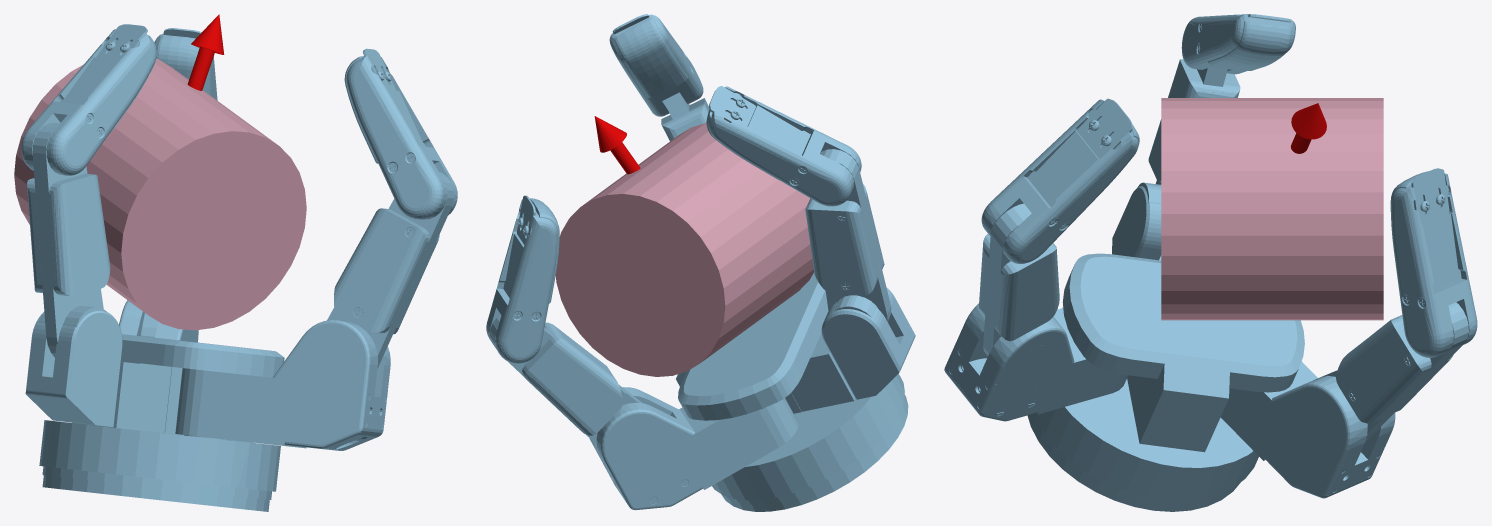
The picture shows the model from 3 angles, left to right: view 1: azimuth 30°, elevation 25°; view 2: azimuth 150°, elevation 25°; view 3: azimuth 270°, elevation 25°; orthographic projection. The views are drawn at different scales.
Visible parts, largest first — view 1: world, cylinder_medium.stl; view 2: world, cylinder_medium.stl; view 3: world, cylinder_medium.stl.
Boxes of the visible parts, x1,y1,x2,y2 form: world: [21, 14, 457, 511]; cylinder_medium.stl: [14, 58, 306, 330]; world: [486, 14, 915, 511]; cylinder_medium.stl: [555, 123, 813, 376]; world: [944, 14, 1477, 511]; cylinder_medium.stl: [1161, 98, 1383, 320].
Size of the model in its own units: 0.1534 by 0.1912 by 0.1918.
